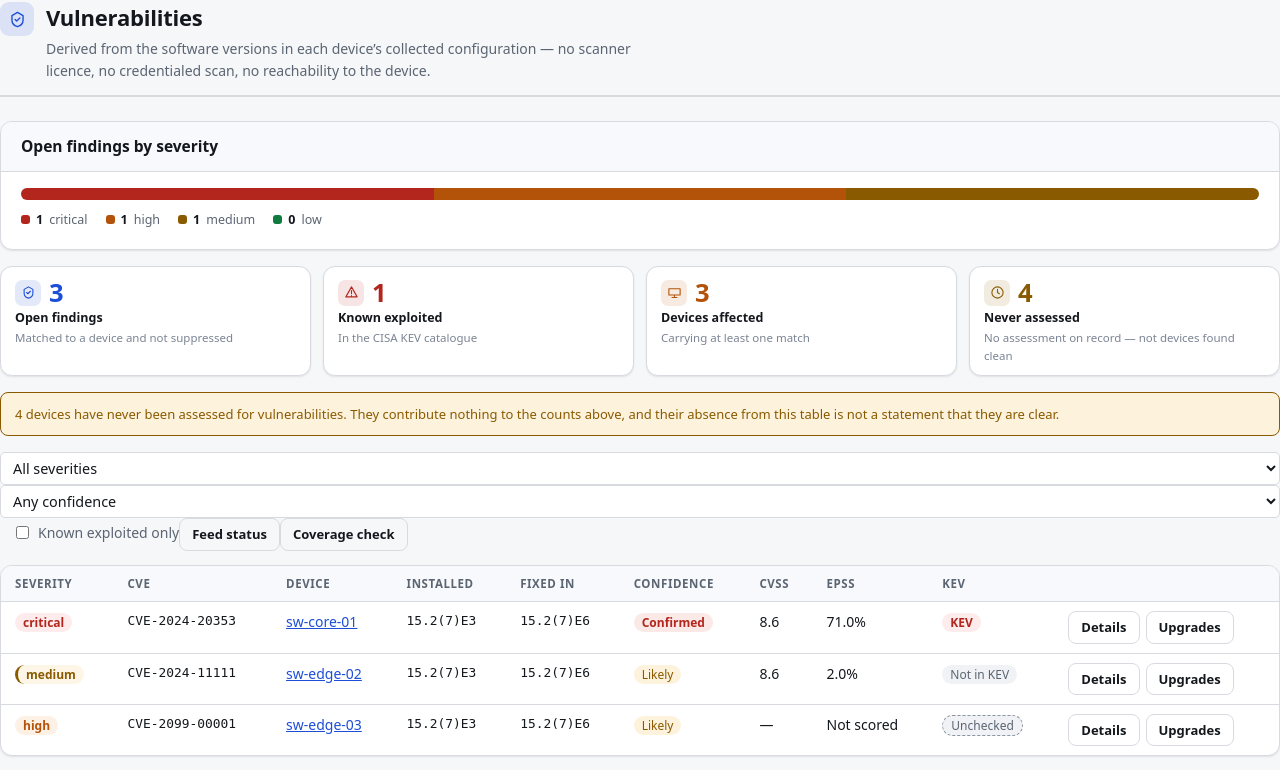
Test: VulnerabilitiesPage › feed status › says why an empty estate may mean nothing has been compared
The image size is (1280, 770).
Expected: the link "sw-core-01" is shown, [286, 612, 357, 631]
What coordinates should you click on to do the following:
click the button "Feed status"
I would click on:
 (230, 535)
Its box is [179, 518, 280, 551].
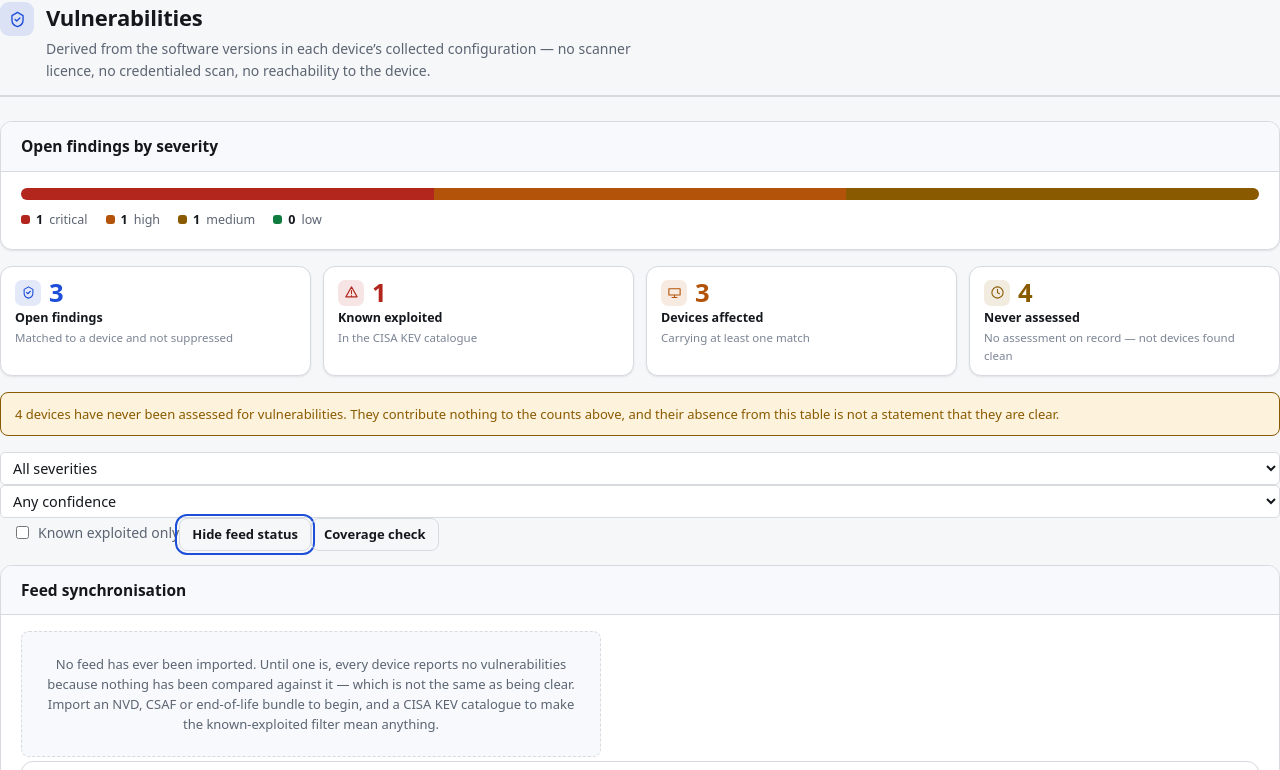
Expected: the text "not the same as being clear" is shown, [47, 655, 575, 733]
